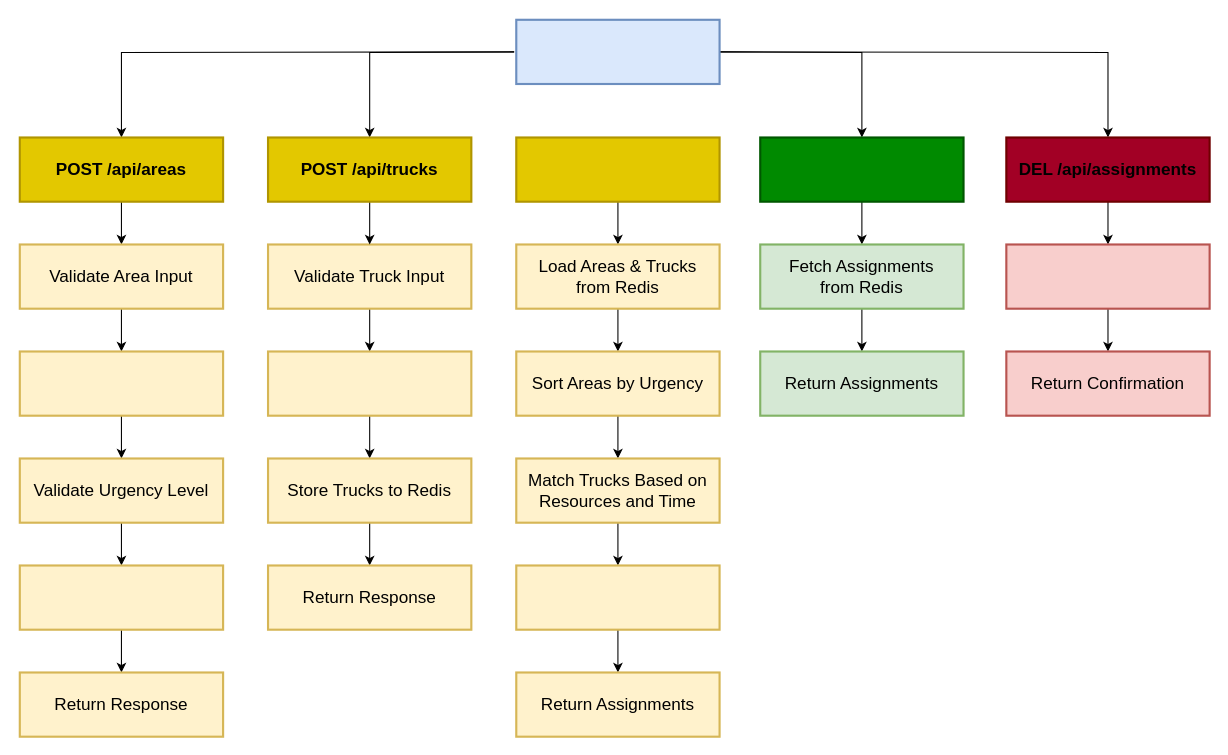
Some shapes in this 1228 by 755 pixel diagram are drawn without their labels. Here are the shapes that lost their labels. From the top down, the centre of each, then its label:
At point (617, 51): "Client Request".
At point (617, 169): "POST /api/assignments".
At point (861, 169): "GET /api/assignments".
At point (1107, 276): "Delete Assignments from Redis".
At point (121, 383): "Check Duplicate AreaID".
At point (369, 383): "Check Duplicate TruckID".
At point (121, 597): "Store Areas to Redis".
At point (617, 597): "Store Assignments to Redis".
